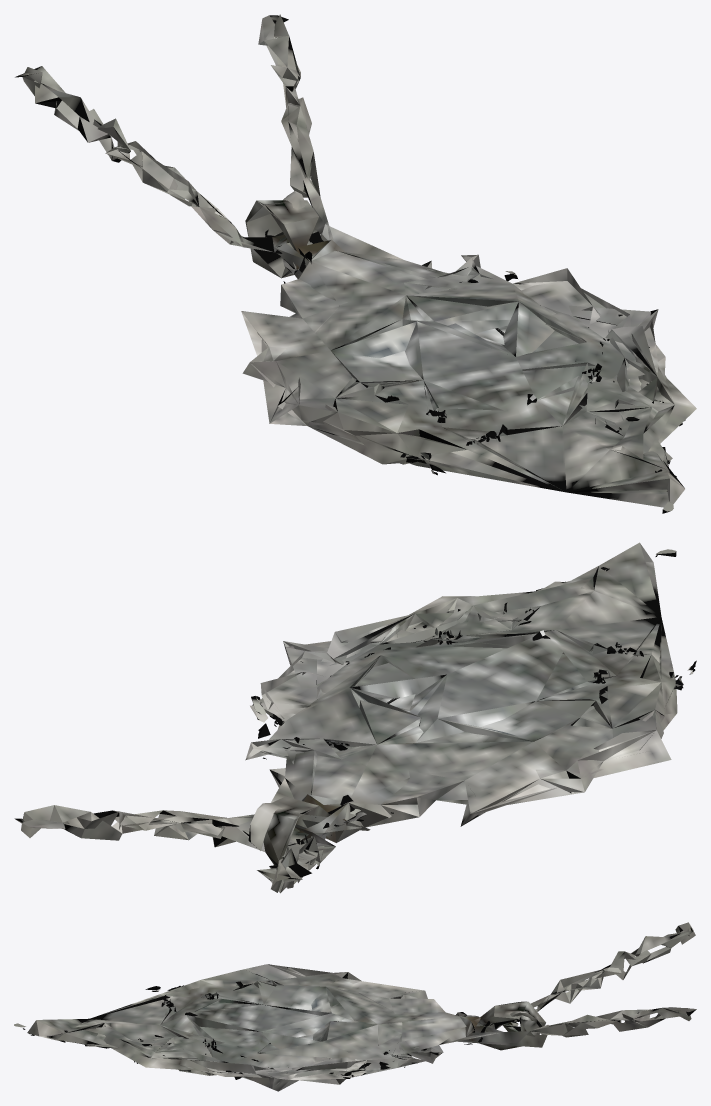
The model's file is medallion_LOD3.glb.
3 views of the same model, one above another, from view 1: azimuth 30°, elevation 25°; view 2: azimuth 150°, elevation 25°; view 3: azimuth 270°, elevation 25° (orthographic). The views are drawn at different scales.
Parts seen in each view (by area): view 1: medallion_LOD3; view 2: medallion_LOD3; view 3: medallion_LOD3.
Boxes of the visible parts, bbox=[...] form: medallion_LOD3: bbox=[15, 14, 696, 513]; medallion_LOD3: bbox=[14, 542, 696, 893]; medallion_LOD3: bbox=[14, 922, 696, 1091].
Size of the model in its own units: 0.0494 by 0.0175 by 0.1157.
1 material, 1 textured.
